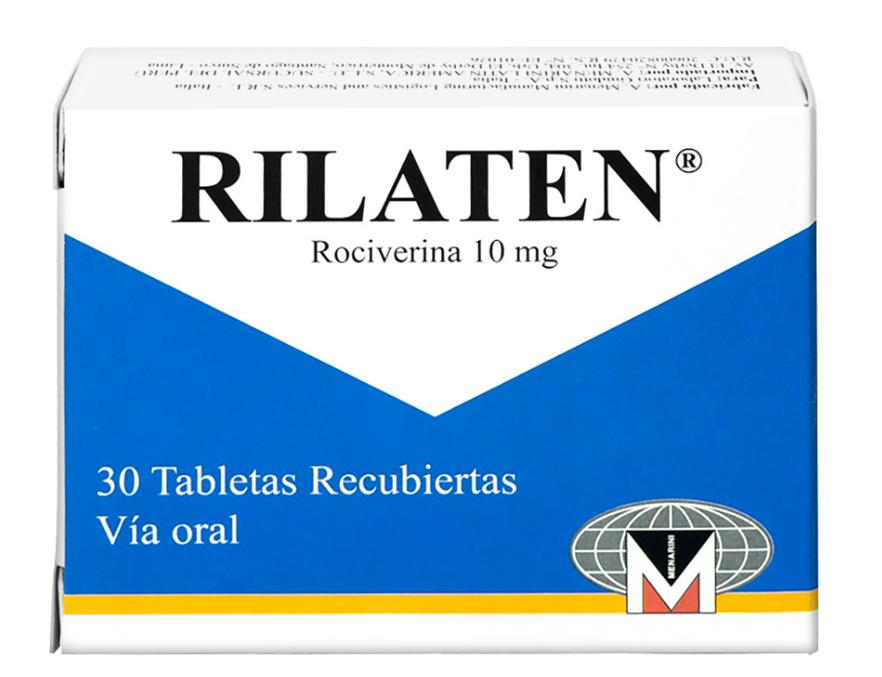brand: (172, 144, 673, 232)
net_weight: (96, 456, 539, 508)
product_name: (307, 235, 572, 275)
